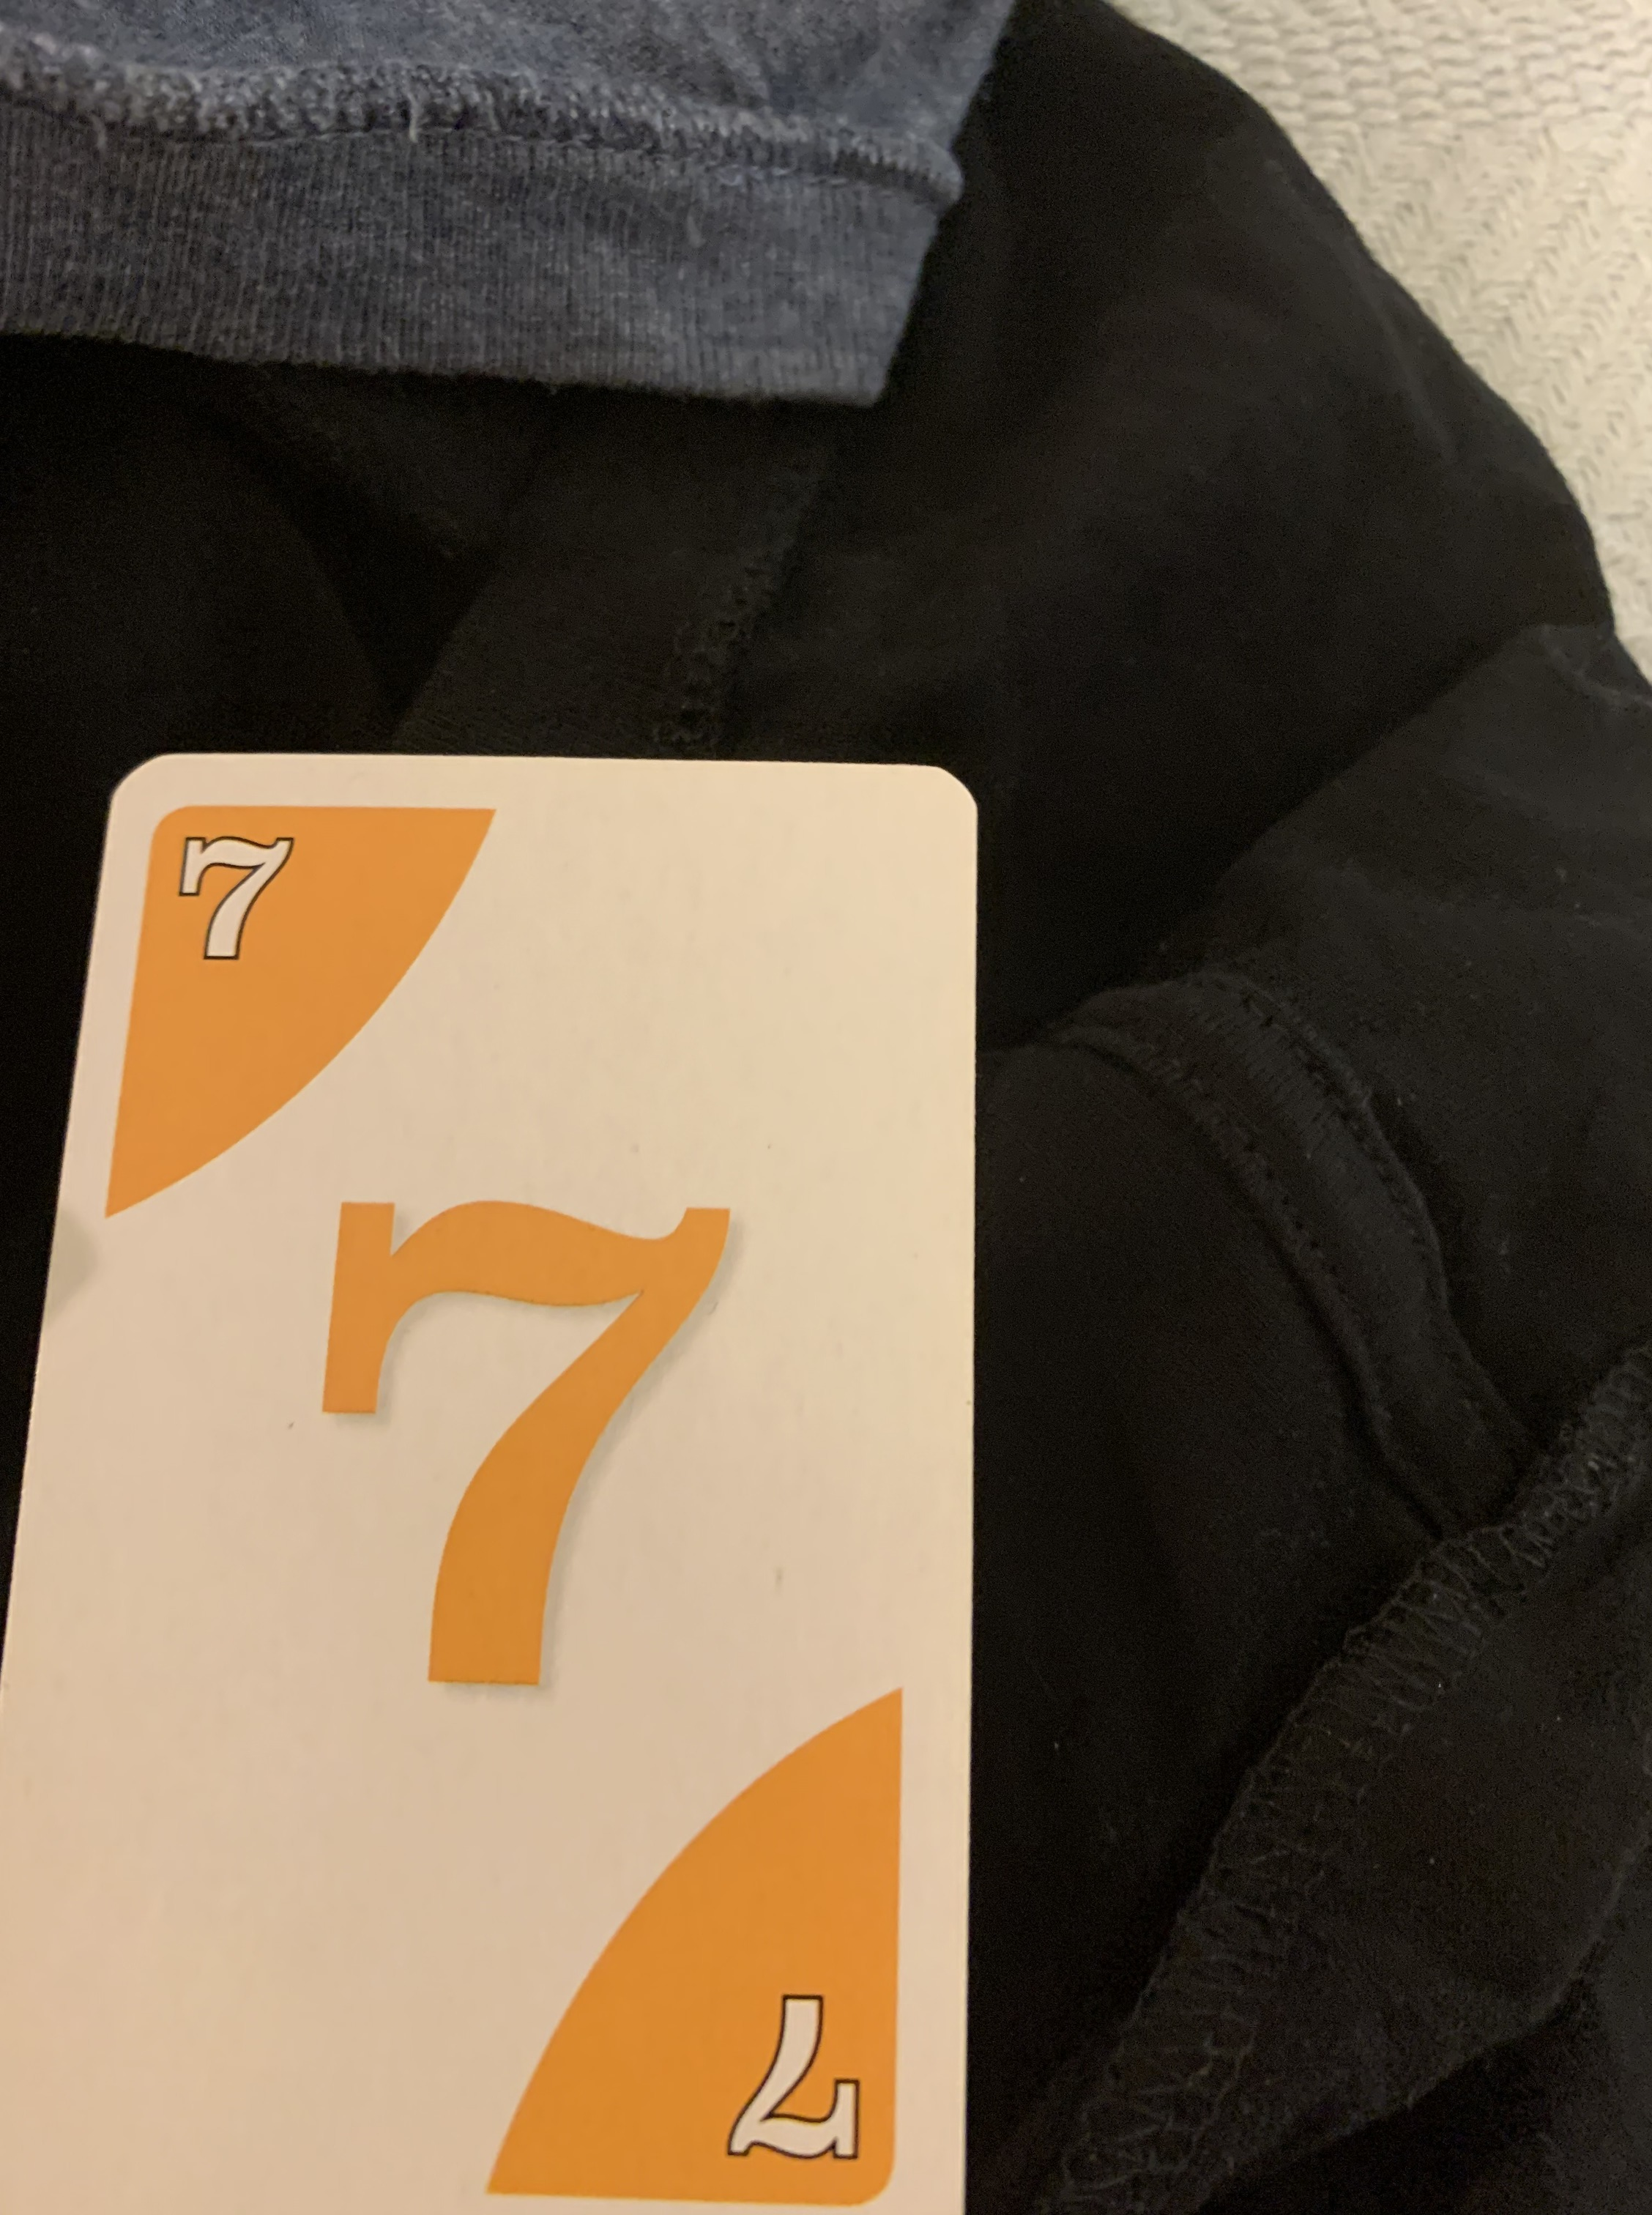seven: (0, 743, 977, 2215)
